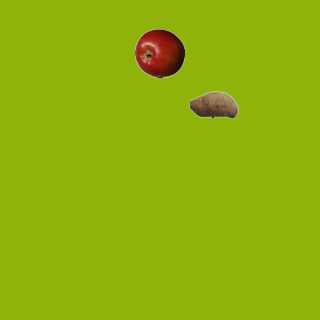Apple Braeburn: (134, 28, 184, 78)
Potato Sweet: (188, 79, 238, 129)
